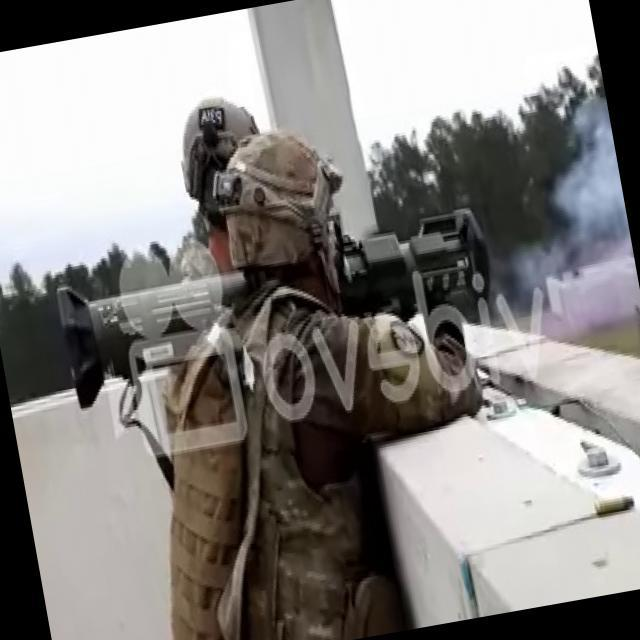rocket: (52, 191, 490, 398)
